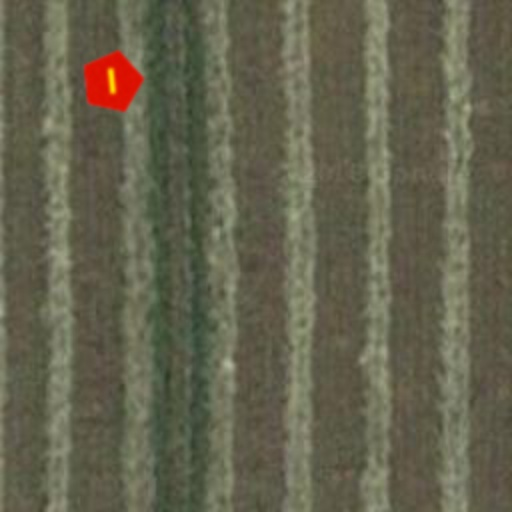pentagon: (74, 44, 150, 120)
